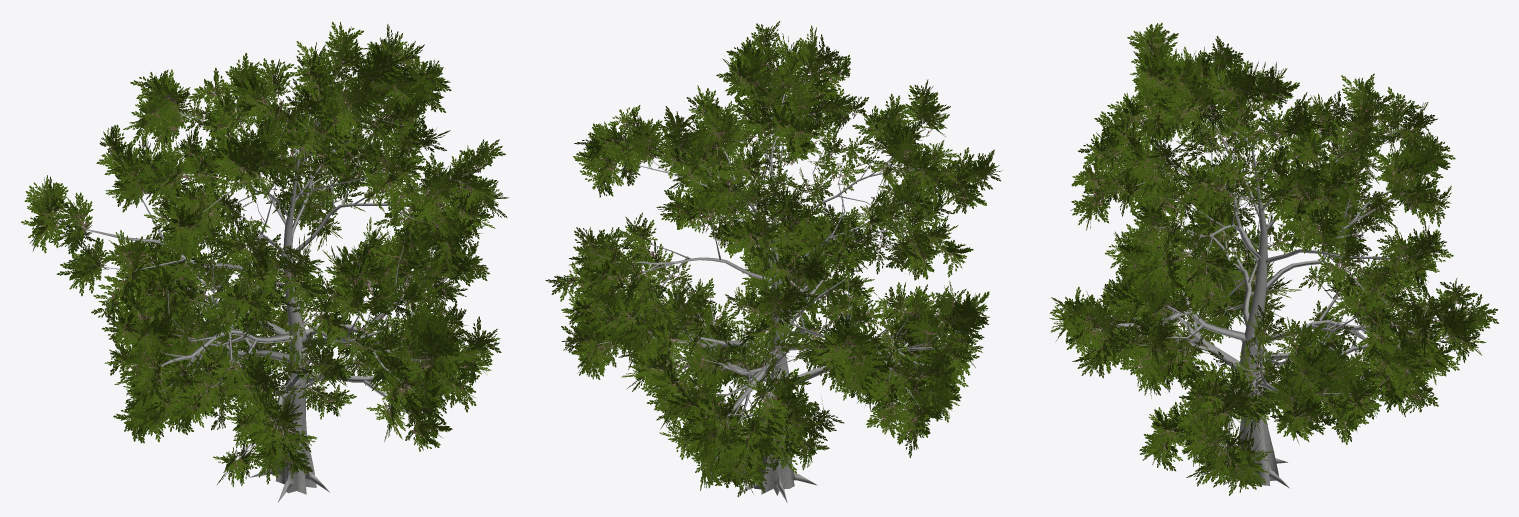
Rendered from beech-green-balanced.gltf.
3 renders of one model, left to right at view 1: azimuth 30°, elevation 25°; view 2: azimuth 150°, elevation 25°; view 3: azimuth 270°, elevation 25°, orthographic. The views are drawn at different scales.
Parts seen in each view (by area): view 1: American Beech balanced Green; view 2: American Beech balanced Green; view 3: American Beech balanced Green.
Part boxes in pixels (left/top/right/bottom): American Beech balanced Green: left=21, top=21, right=508, bottom=502; American Beech balanced Green: left=545, top=21, right=1002, bottom=502; American Beech balanced Green: left=1049, top=22, right=1498, bottom=495.
Size of the model in its own units: 786 by 826 by 774.
Materials: 2 (2 with a texture image).
